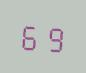nine: (42, 19, 64, 54)
six: (19, 18, 41, 52)
